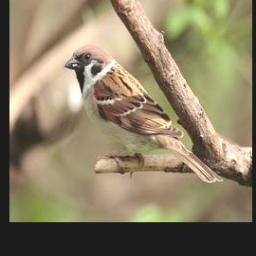Sparrow: (63, 41, 224, 187)
